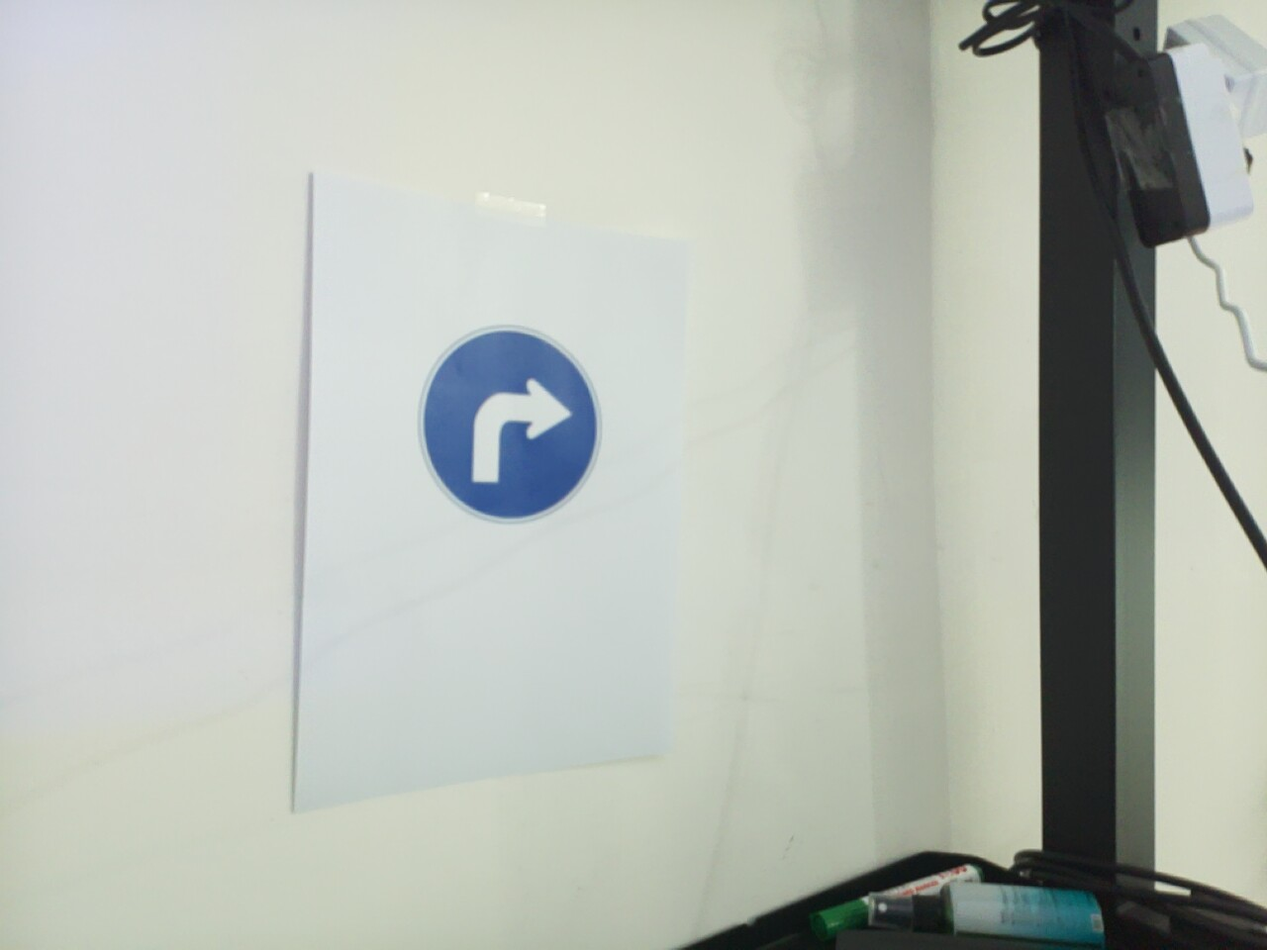right_turn: (417, 324, 604, 525)
